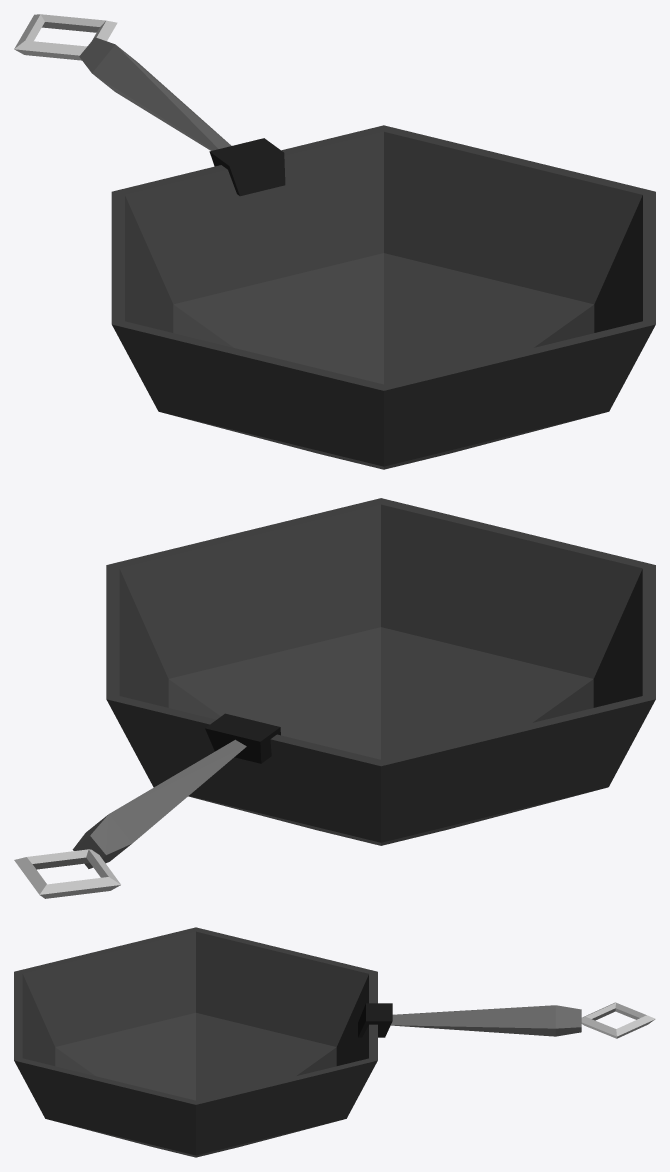
Rendered from wok_A.FBX.
3 views of the same model, one above another, from view 1: azimuth 30°, elevation 25°; view 2: azimuth 150°, elevation 25°; view 3: azimuth 270°, elevation 25° (orthographic). The views are drawn at different scales.
Parts seen in each view (by area): view 1: wok_A; view 2: wok_A; view 3: wok_A.
Boxes of the visible parts, <box> form: wok_A: <box>14,14,655,469</box>; wok_A: <box>14,498,655,898</box>; wok_A: <box>14,927,655,1157</box>.
Bounding box in the file's own units: 31.84 × 10.98 × 48.65.
